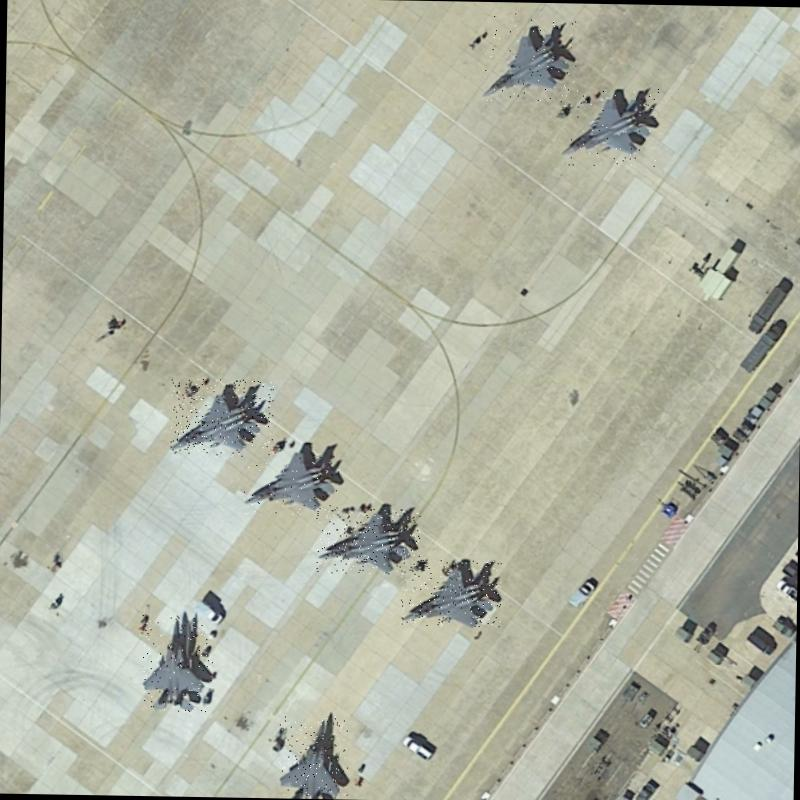A13: (483, 12, 577, 102), (170, 378, 273, 458), (560, 86, 660, 166), (140, 614, 213, 712), (400, 559, 501, 628), (315, 508, 420, 574), (242, 447, 339, 515), (278, 715, 348, 798)
